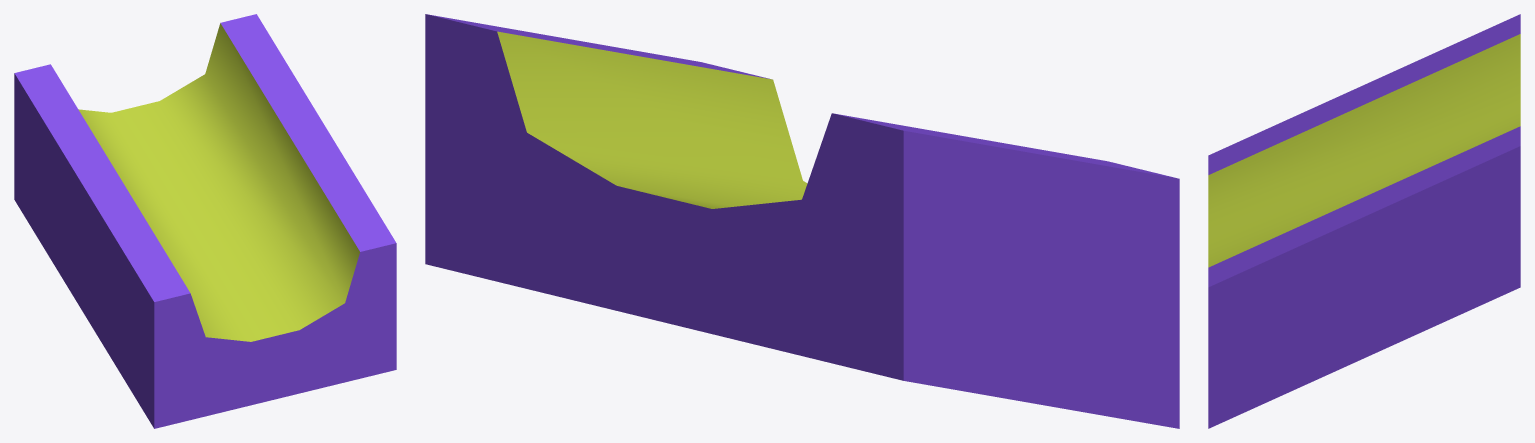
Rendered from slant_B-col.dae.
The picture shows the model from 3 angles, left to right: view 1: azimuth 30°, elevation 25°; view 2: azimuth 150°, elevation 25°; view 3: azimuth 270°, elevation 25°; orthographic projection. The views are drawn at different scales.
Parts seen in each view (by area): view 1: slant_B-col; view 2: slant_B-col; view 3: slant_B-col.
Part boxes in pixels (x1=…): slant_B-col: x1=14, y1=14, x2=396, y2=428; slant_B-col: x1=425, y1=14, x2=1179, y2=428; slant_B-col: x1=1208, y1=14, x2=1520, y2=428.
Bounding box in the file's own units: 1 × 1 × 1.
